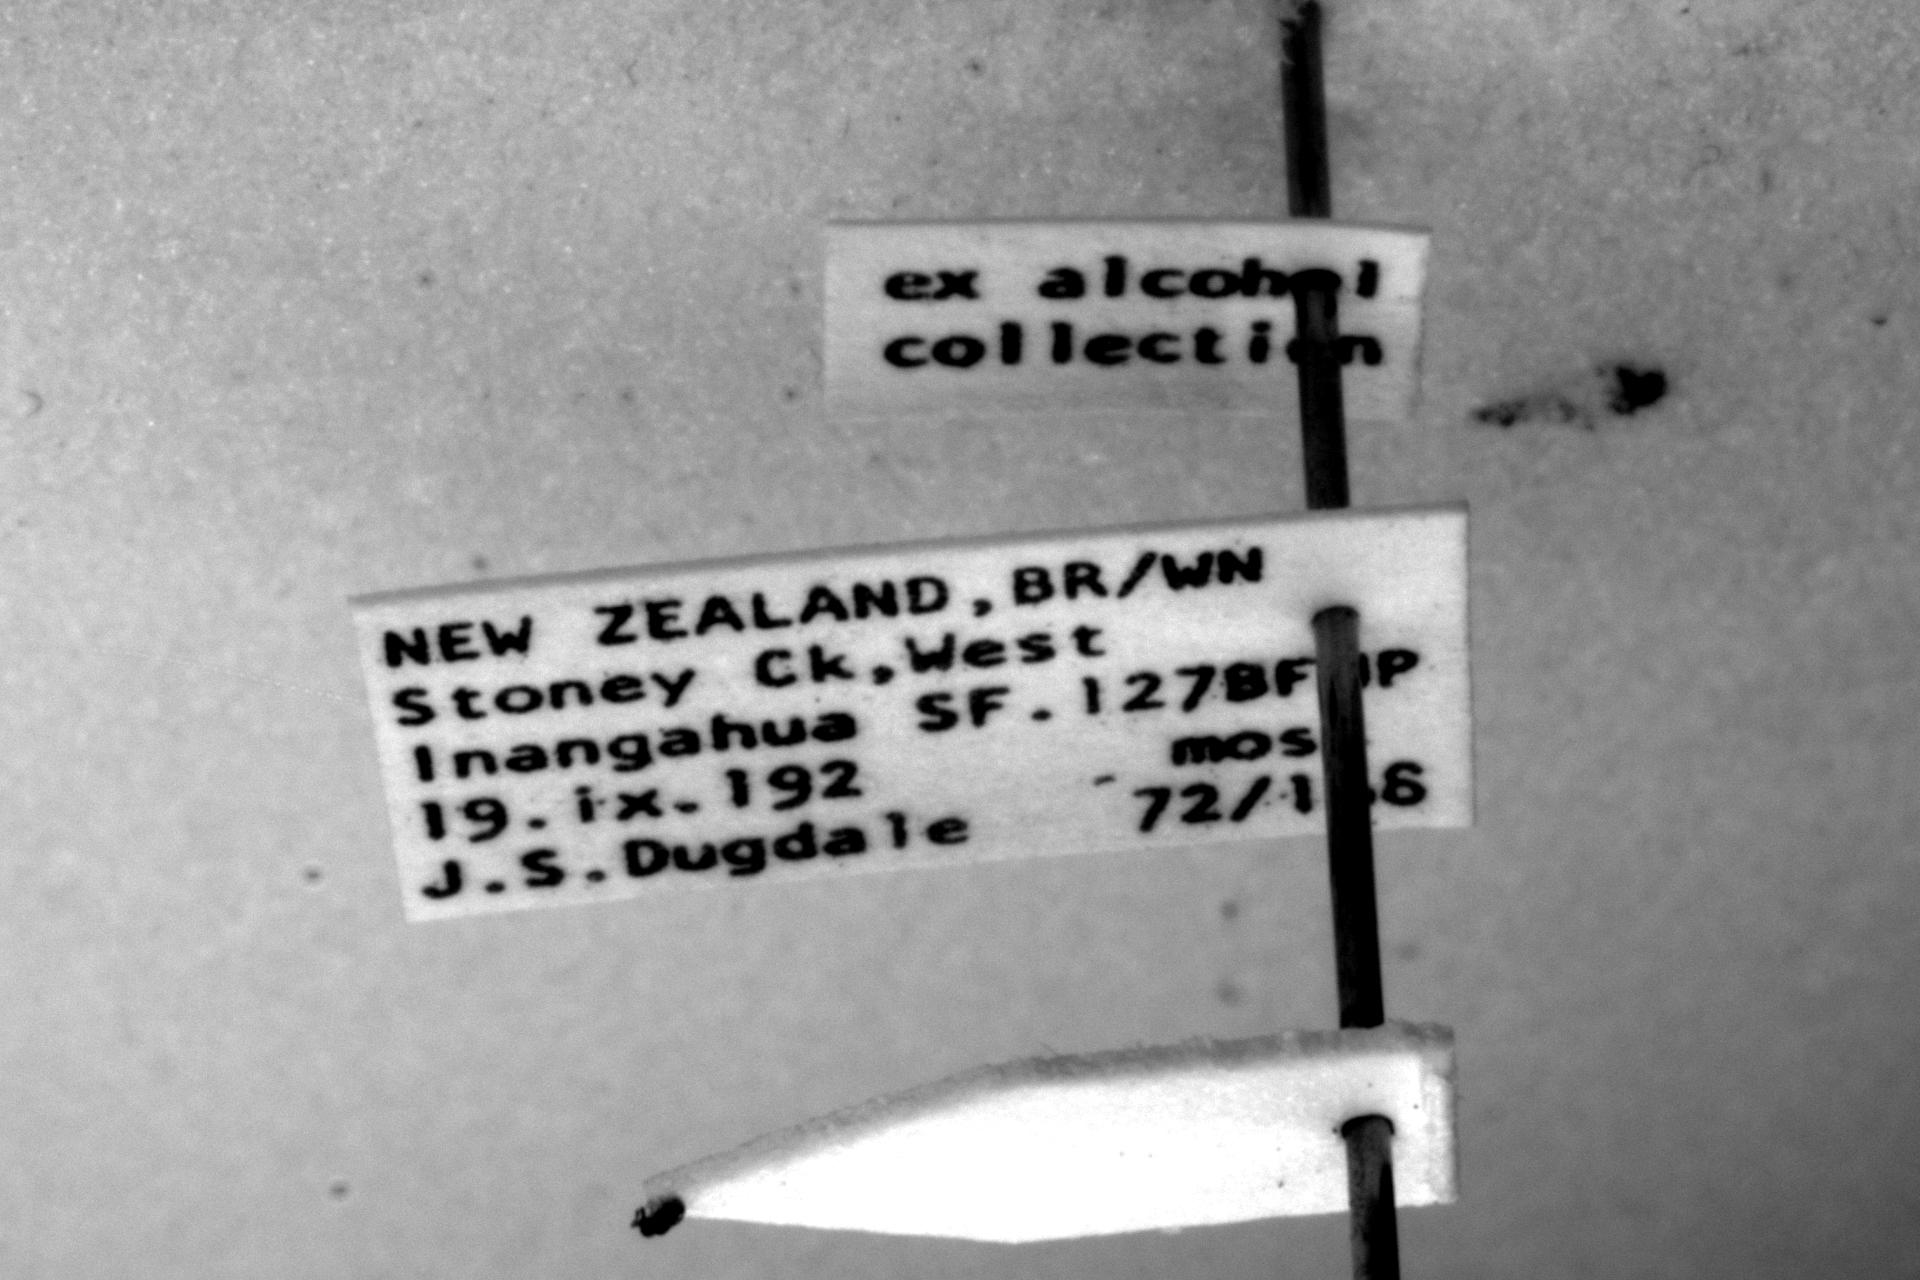typed_label: (353, 506, 1474, 919), (826, 217, 1429, 420)
